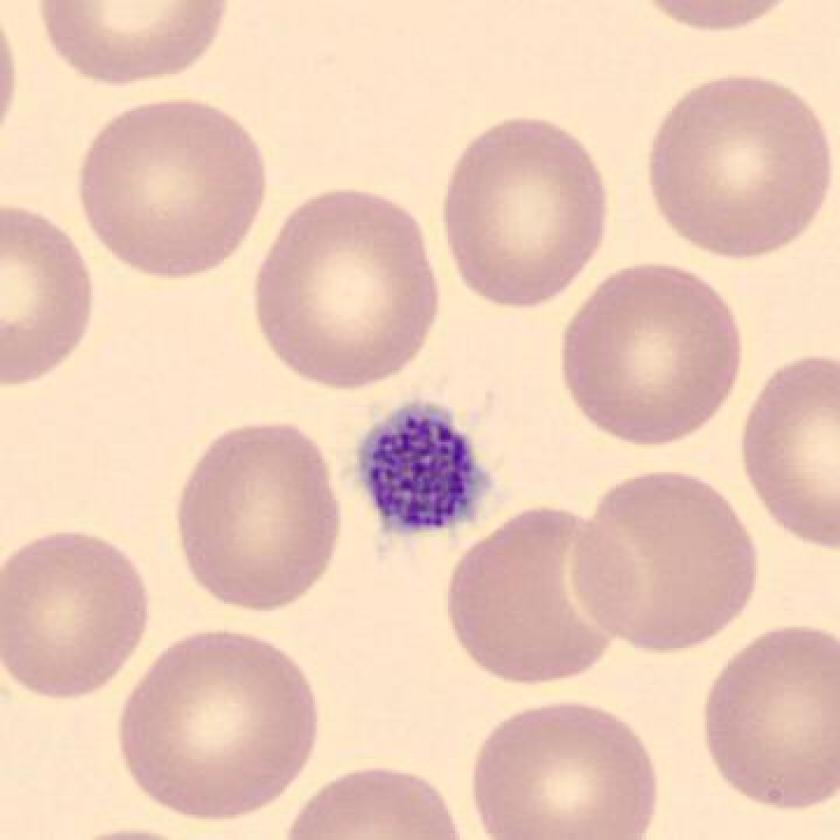platelets: (349, 395, 505, 547)
